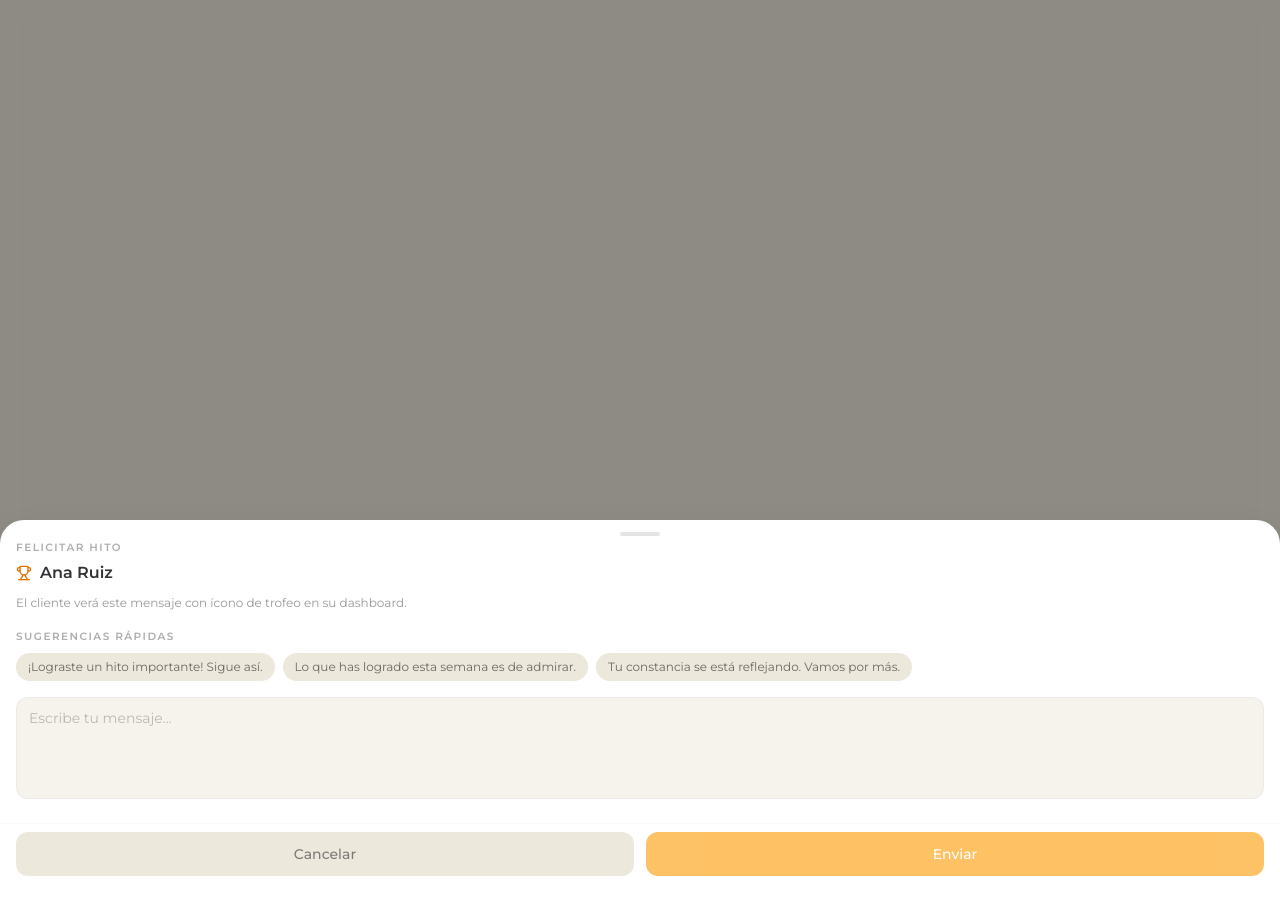
Test: PostMilestoneMessageSheet › fills the textarea when a quick suggestion is clicked
This screenshot has width=1280, height=900.
Click the button "¡Lograste un hito importante! Sigue así.": click(145, 667) [16, 653, 275, 681]
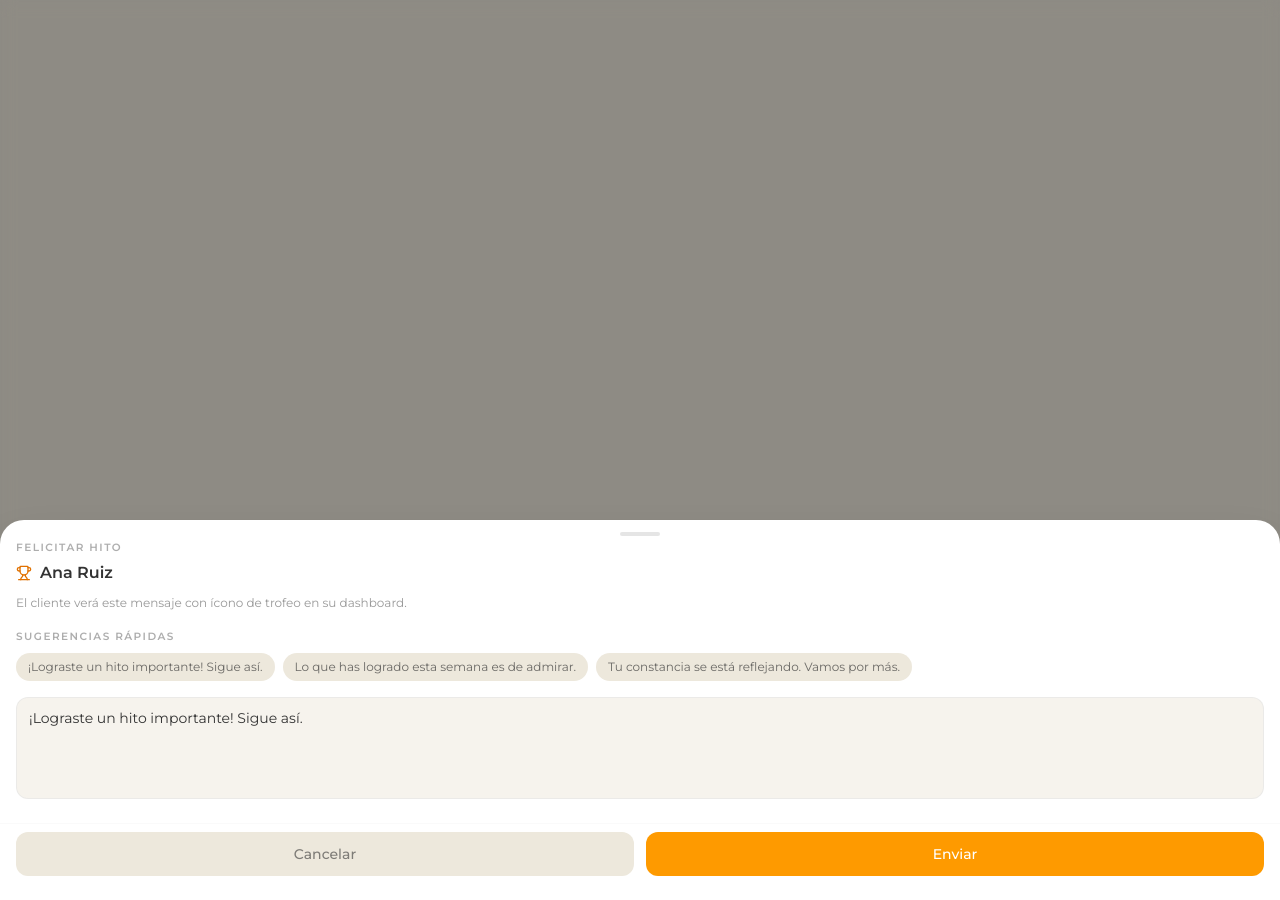
Check: the text box with placeholder "Escribe tu mensaje..." holds "¡Lograste un hito importante! Sigue así.", box [16, 697, 1264, 799]
